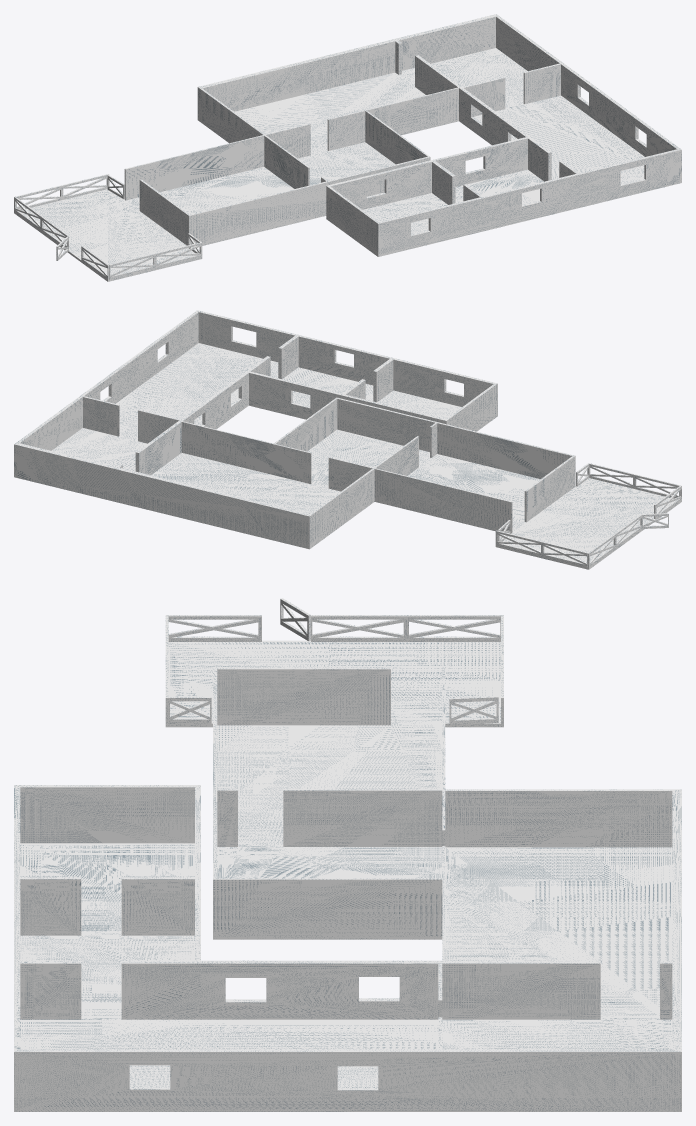
The model's file is House.fbx.
3 views of the same model, one above another, from view 1: azimuth 30°, elevation 25°; view 2: azimuth 150°, elevation 25°; view 3: azimuth 270°, elevation 25° (orthographic). The views are drawn at different scales.
Visible parts, largest first — view 1: Model, fence2, fence1, fence3, fence4; view 2: Model, fence3, fence4, fence1, fence2, fence5; view 3: Model, fence6, fence7, fence5, fence_1_2, fence_1_3.
Boxes of the visible parts, x1,y1,x2,y2 form: Model: (14, 14, 681, 281); fence2: (109, 253, 155, 279); fence1: (155, 242, 202, 267); fence3: (62, 174, 109, 199); fence4: (15, 185, 62, 209); Model: (14, 310, 681, 569); fence3: (495, 530, 541, 556); fence4: (541, 541, 587, 567); fence1: (588, 463, 633, 488); fence2: (633, 474, 680, 498); fence5: (587, 534, 615, 567); Model: (14, 640, 681, 1111); fence6: (311, 615, 407, 641); fence7: (165, 615, 261, 641); fence5: (407, 615, 503, 641); fence_1_2: (449, 696, 498, 724); fence_1_3: (168, 696, 211, 723).
Size of the model in its own units: 104 by 6.01 by 60.78.
